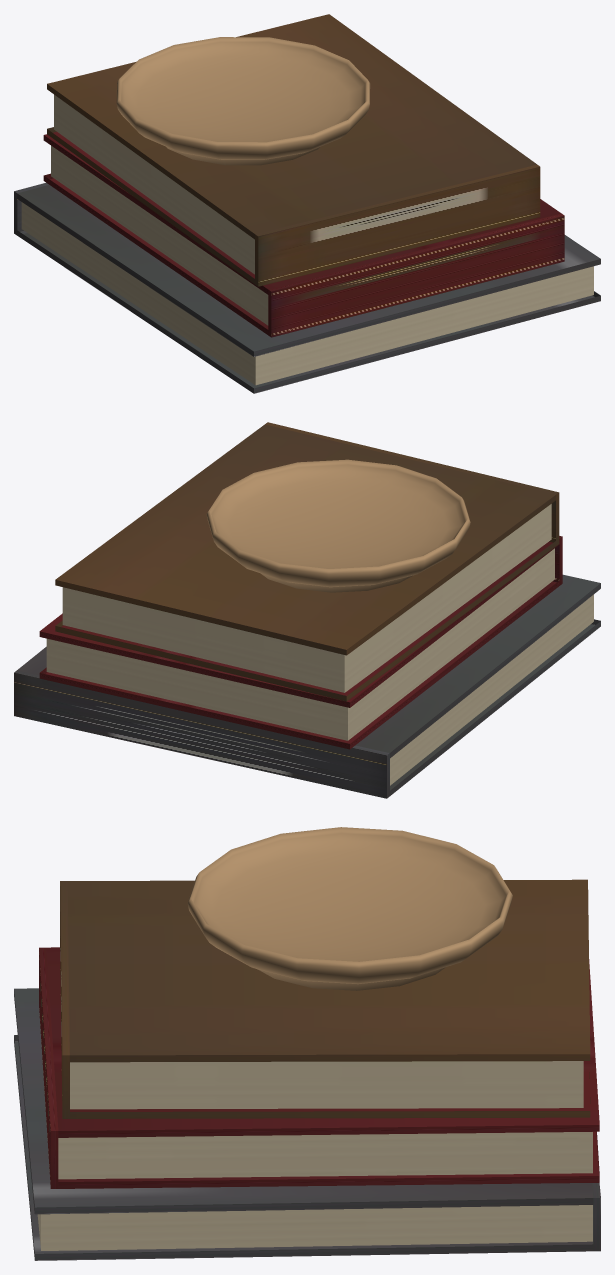
The model's file is decor_c_books_d.gltf.
The picture shows the model from 3 angles, top to bottom: view 1: azimuth 30°, elevation 25°; view 2: azimuth 150°, elevation 25°; view 3: azimuth 270°, elevation 25°; orthographic projection. The views are drawn at different scales.
Parts seen in each view (by area): view 1: DecorC_BooksD_Book03_Spines_NoCollide, DecorC_BooksD_Book01_Spines_NoCollide, DecorC_BooksD_Book02_Spines_NoCollide, DecorC_BooksD_Dish01_Bronze_NoCollide; view 2: DecorC_BooksD_Book03_Spines_NoCollide, DecorC_BooksD_Book01_Spines_NoCollide, DecorC_BooksD_Book02_Spines_NoCollide, DecorC_BooksD_Dish01_Bronze_NoCollide; view 3: DecorC_BooksD_Book03_Spines_NoCollide, DecorC_BooksD_Book01_Spines_NoCollide, DecorC_BooksD_Book02_Spines_NoCollide, DecorC_BooksD_Dish01_Bronze_NoCollide.
Part boxes in pixels (<box>): DecorC_BooksD_Book03_Spines_NoCollide: <box>47,14,540,286</box>; DecorC_BooksD_Book01_Spines_NoCollide: <box>14,182,600,393</box>; DecorC_BooksD_Book02_Spines_NoCollide: <box>43,132,564,337</box>; DecorC_BooksD_Dish01_Bronze_NoCollide: <box>116,37,370,165</box>; DecorC_BooksD_Book03_Spines_NoCollide: <box>55,422,559,701</box>; DecorC_BooksD_Book01_Spines_NoCollide: <box>14,574,600,798</box>; DecorC_BooksD_Book02_Spines_NoCollide: <box>39,536,562,749</box>; DecorC_BooksD_Dish01_Bronze_NoCollide: <box>206,459,470,592</box>; DecorC_BooksD_Book03_Spines_NoCollide: <box>60,879,590,1118</box>; DecorC_BooksD_Book01_Spines_NoCollide: <box>14,988,600,1260</box>; DecorC_BooksD_Book02_Spines_NoCollide: <box>39,947,599,1188</box>; DecorC_BooksD_Dish01_Bronze_NoCollide: <box>187,827,512,990</box>.
Bounding box in the file's own units: 0.2488 × 0.1133 × 0.2701.
Materials: 2 (1 with a texture image).
